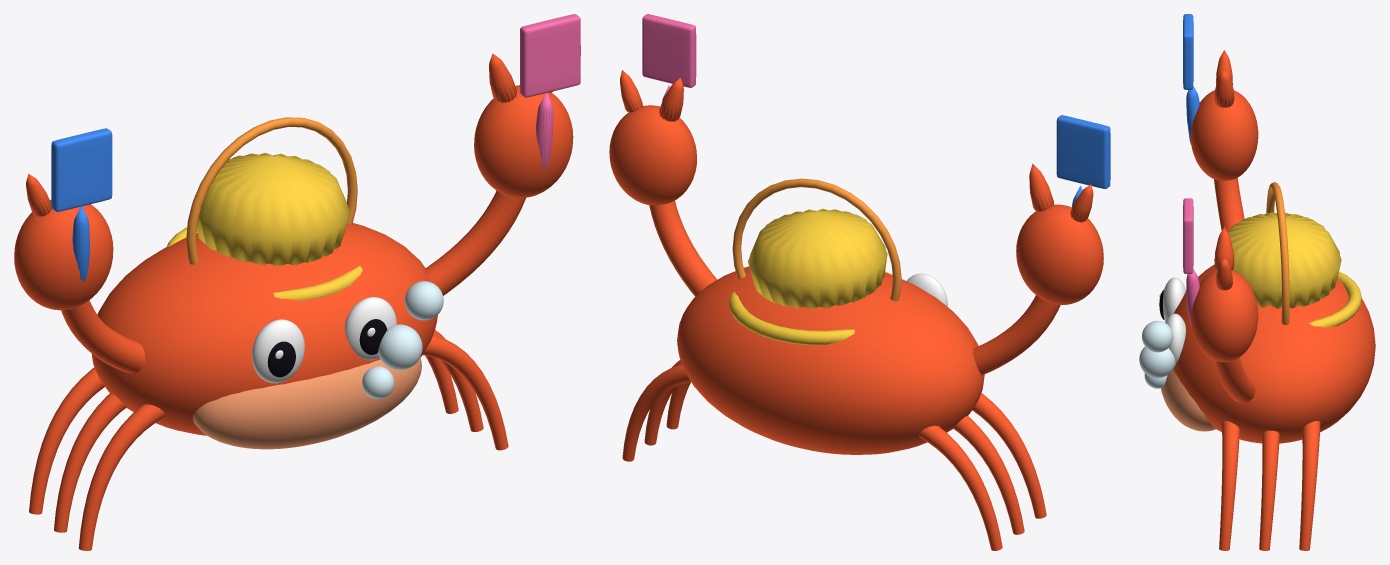
The picture shows the model from 3 angles, left to right: view 1: azimuth 30°, elevation 25°; view 2: azimuth 150°, elevation 25°; view 3: azimuth 270°, elevation 25°; orthographic projection. The views are drawn at different scales.
Parts seen in each view (by area): view 1: body, bucket, belly, claw1, claw-1, shovel-1, shovel1, arm1, handle, leg-10, arm-1, leg-12 (+16 smaller); view 2: body, bucket, claw-1, claw1, shovel-1, shovel1, handle, arm-1, arm1, leg-12, leg-10, leg-11 (+8 smaller); view 3: body, bucket, claw1, claw-1, leg12, leg10, leg11, belly, handle, arm-1, arm1, bucketRim (+12 smaller).
Part boxes in pixels (<box>): body: <box>91,223,437,435</box>; bucket: <box>194,153,350,265</box>; belly: <box>193,357,421,449</box>; claw1: <box>474,85,573,197</box>; claw-1: <box>14,200,113,310</box>; shovel-1: <box>51,128,112,211</box>; shovel1: <box>520,14,580,97</box>; arm1: <box>425,190,525,295</box>; handle: <box>186,117,357,264</box>; leg-10: <box>78,404,165,550</box>; arm-1: <box>61,300,144,373</box>; leg-12: <box>29,367,104,514</box>; body: <box>677,266,984,454</box>; bucket: <box>748,208,887,309</box>; claw-1: <box>1016,204,1103,304</box>; claw1: <box>609,105,696,205</box>; shovel-1: <box>1056,115,1110,188</box>; shovel1: <box>642,14,696,87</box>; handle: <box>732,178,901,301</box>; arm-1: <box>973,295,1060,375</box>; arm1: <box>649,200,717,296</box>; leg-12: <box>918,425,1002,550</box>; leg-10: <box>972,393,1046,518</box>; leg-11: <box>953,415,1024,534</box>; body: <box>1173,265,1375,443</box>; bucket: <box>1214,212,1341,308</box>; claw1: <box>1190,270,1258,362</box>; claw-1: <box>1190,90,1258,180</box>; leg12: <box>1299,421,1320,550</box>; leg10: <box>1219,421,1239,550</box>; leg11: <box>1259,430,1279,550</box>; belly: <box>1161,369,1215,431</box>; handle: <box>1266,182,1289,325</box>; arm-1: <box>1214,178,1244,231</box>; arm1: <box>1215,357,1255,403</box>; bucketRim: <box>1199,271,1361,327</box>.
Bounding box in the file's own units: 3.83 × 2.91 × 1.77.
